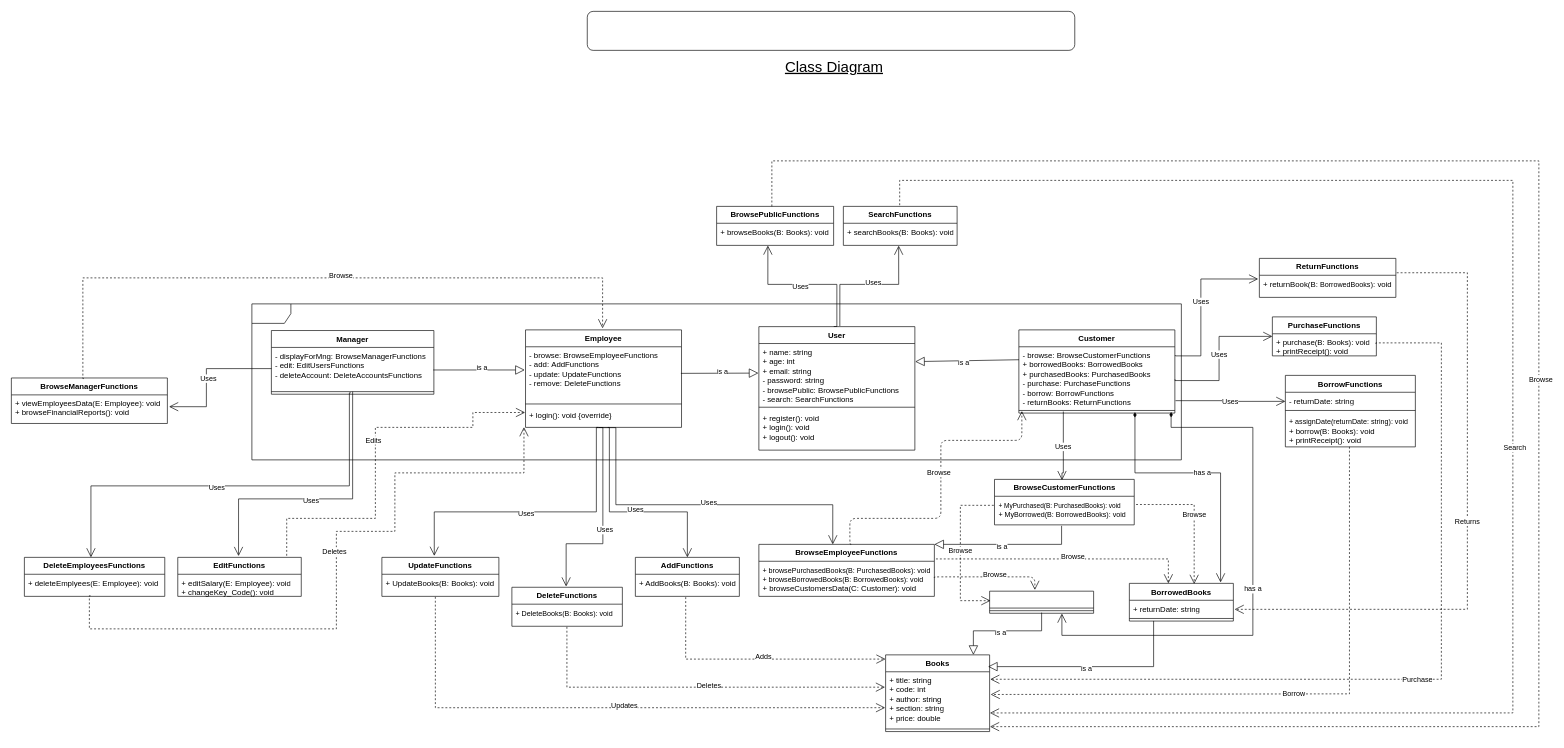
Image size: 1564x748. Some labels were removed from this diagram. The centre of each missing label's shape, as x and y in pixels:
"Actors" goes at [716,381].
"Library and Bookstore Management System" goes at [831,30].
"PurchasedBooks" goes at [1041,602].
